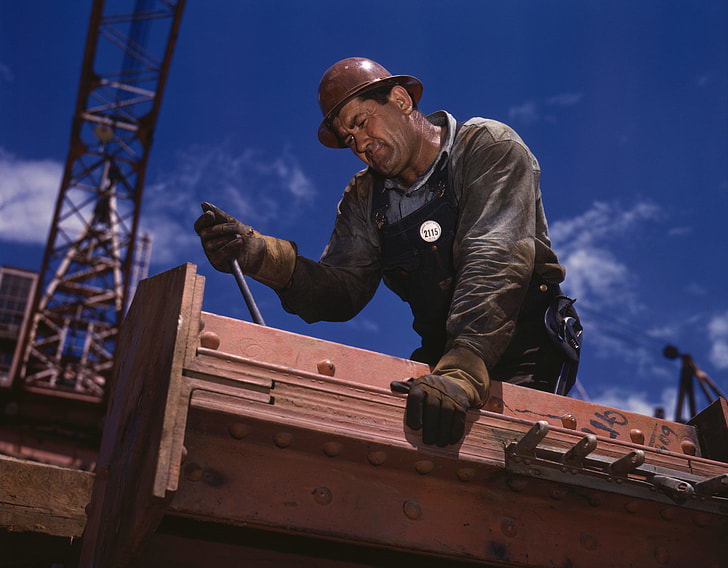Hard Hat: (308, 59, 424, 176)
Person: (213, 63, 581, 444)
